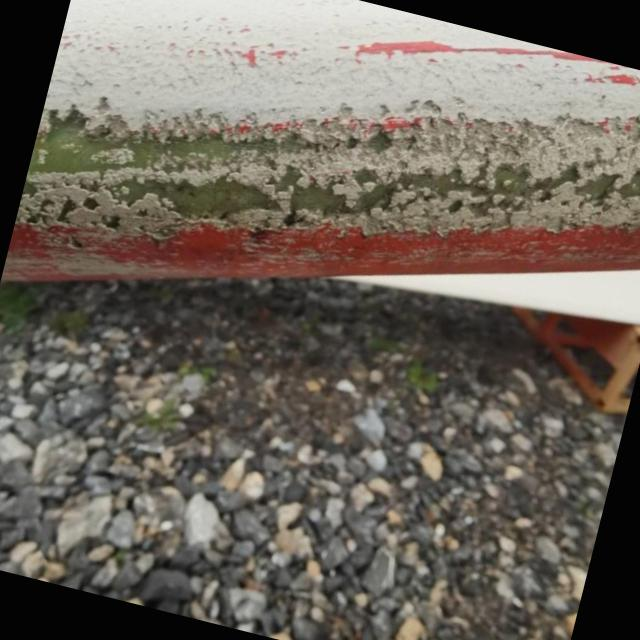corrosion: (21, 0, 640, 374)
